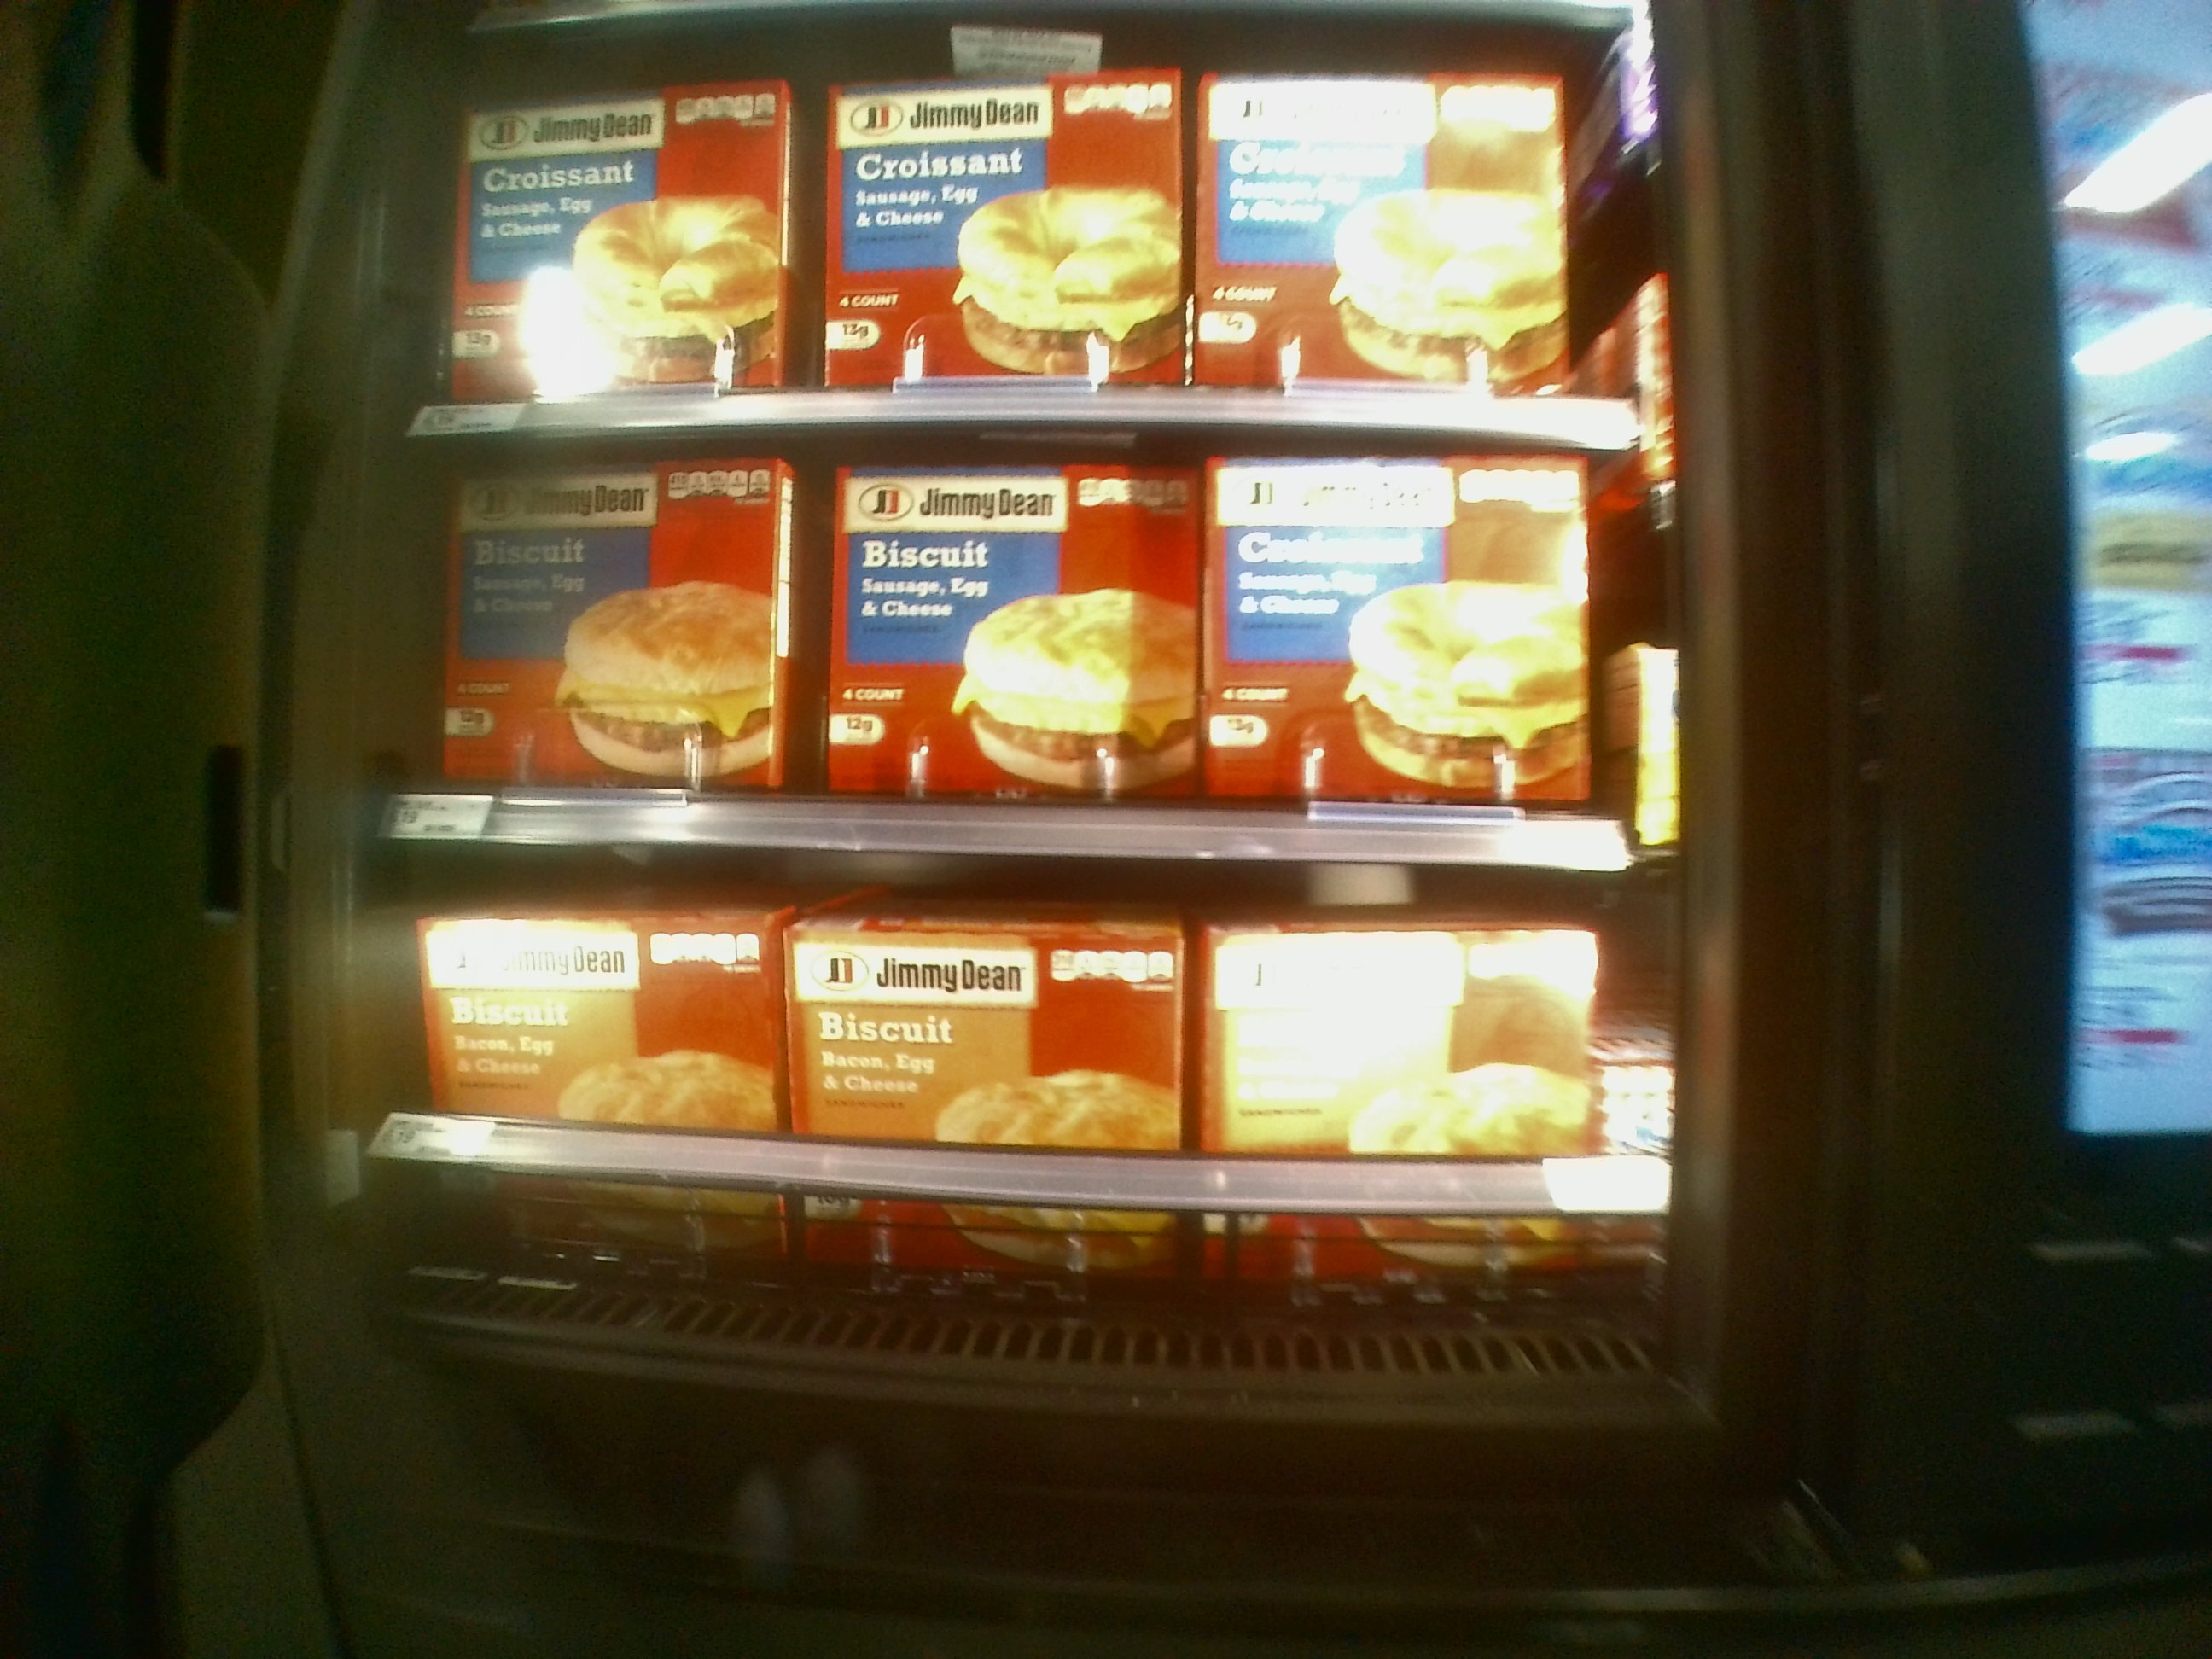shelf: (381, 852, 1696, 1324), (374, 416, 1676, 870)
